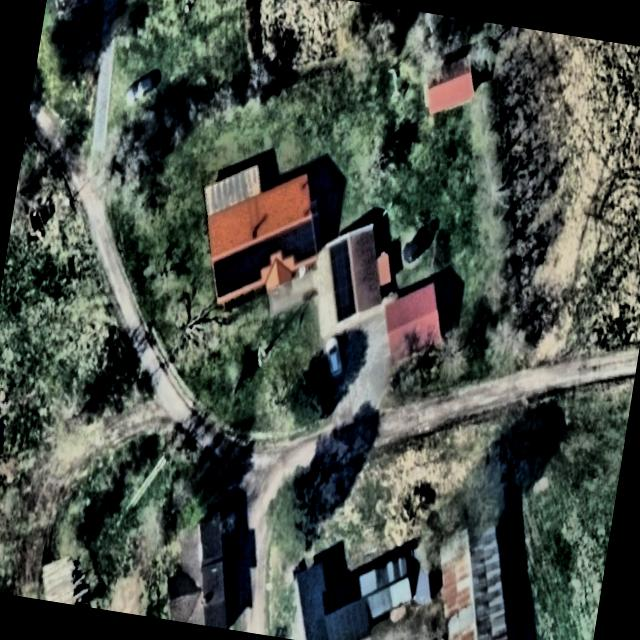roof_pv: (314, 234, 369, 331), (209, 239, 271, 306), (276, 211, 323, 266), (262, 232, 285, 258)
